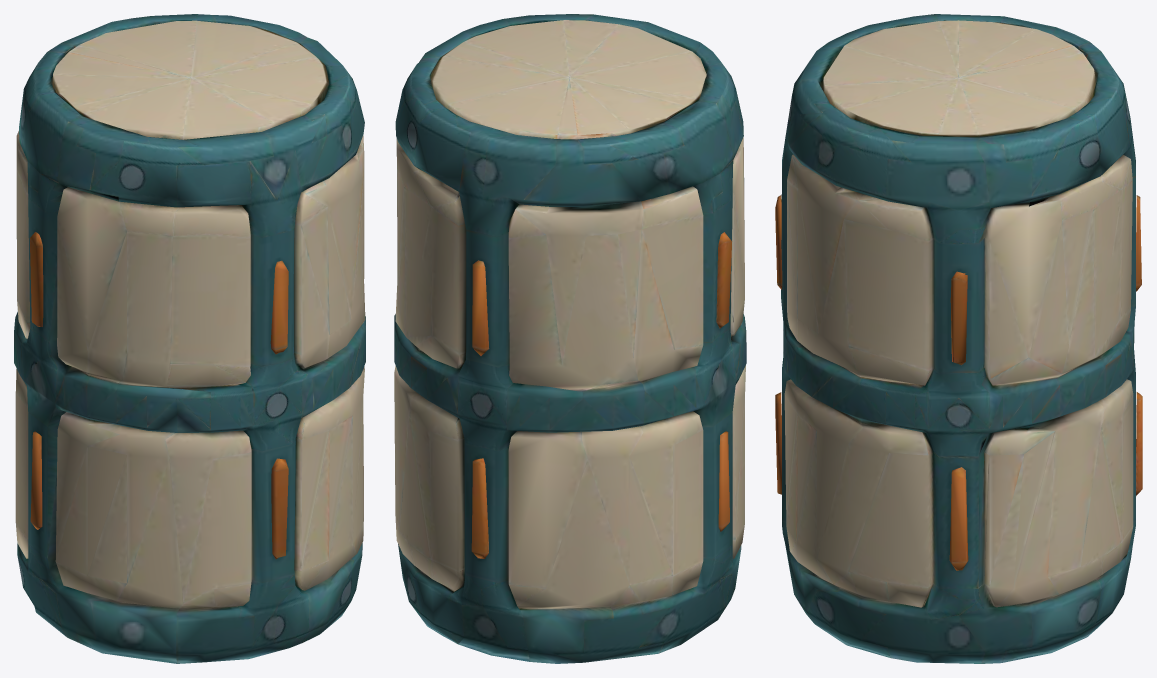
File: rocket_upper_hull-lod1.c50541f47ca5.glb
3 renders of one model, left to right at view 1: azimuth 30°, elevation 25°; view 2: azimuth 150°, elevation 25°; view 3: azimuth 270°, elevation 25°, orthographic.
Parts seen in each view (by area): view 1: geometry_0; view 2: geometry_0; view 3: geometry_0.
Part boxes in pixels (x1,y1,x2,y2): geometry_0: (14,14,365,663); geometry_0: (394,14,746,663); geometry_0: (775,14,1142,663).
Bounding box in the file's own units: 0.606 × 0.9512 × 0.6079.
Materials: 1 (1 with a texture image).
